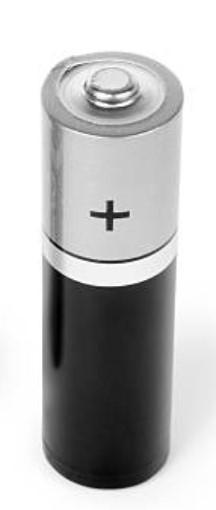Battery: (41, 52, 183, 488)
